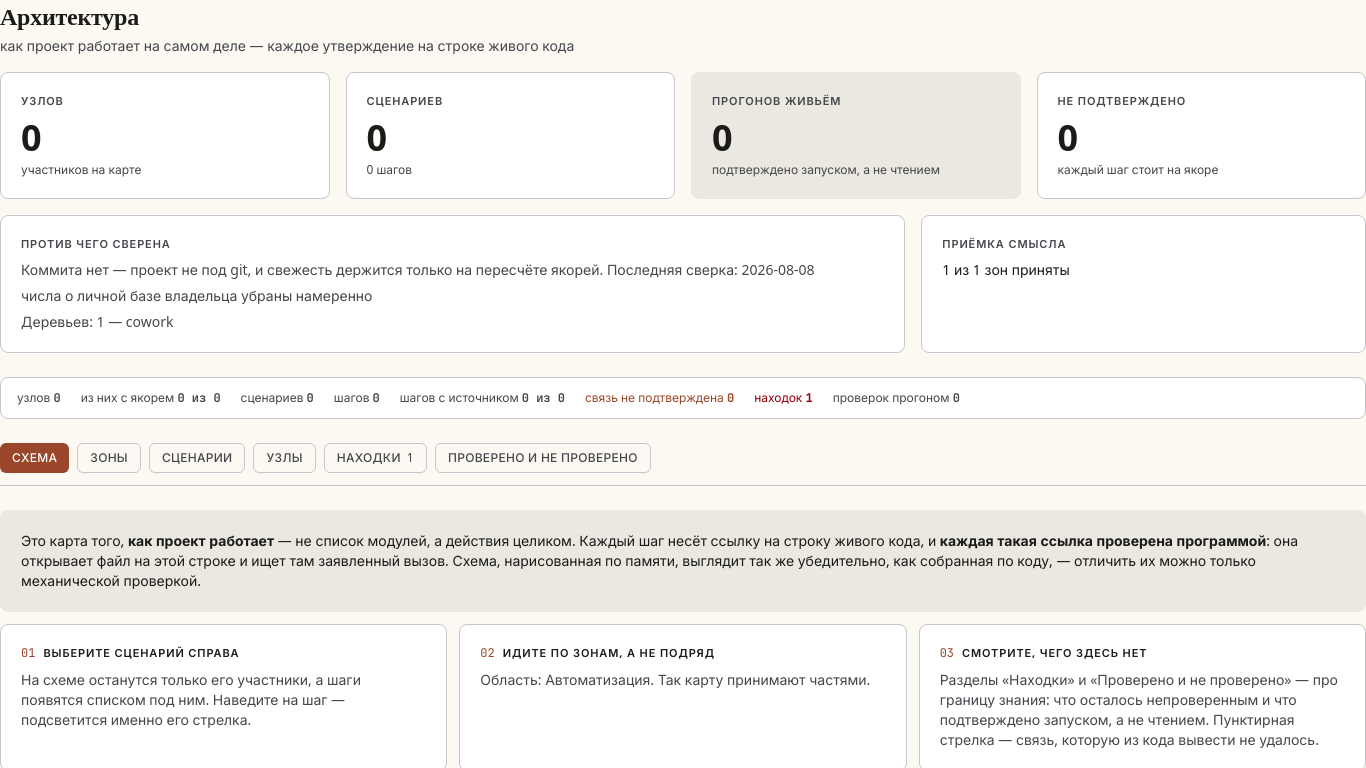
Test case: ArchitectureView › показывает находки вместе с тем, как их чинили
The width and height of the screenshot is (1366, 768).
Step 1. Click the button "Находки1" → (375, 458), box [324, 443, 427, 473]
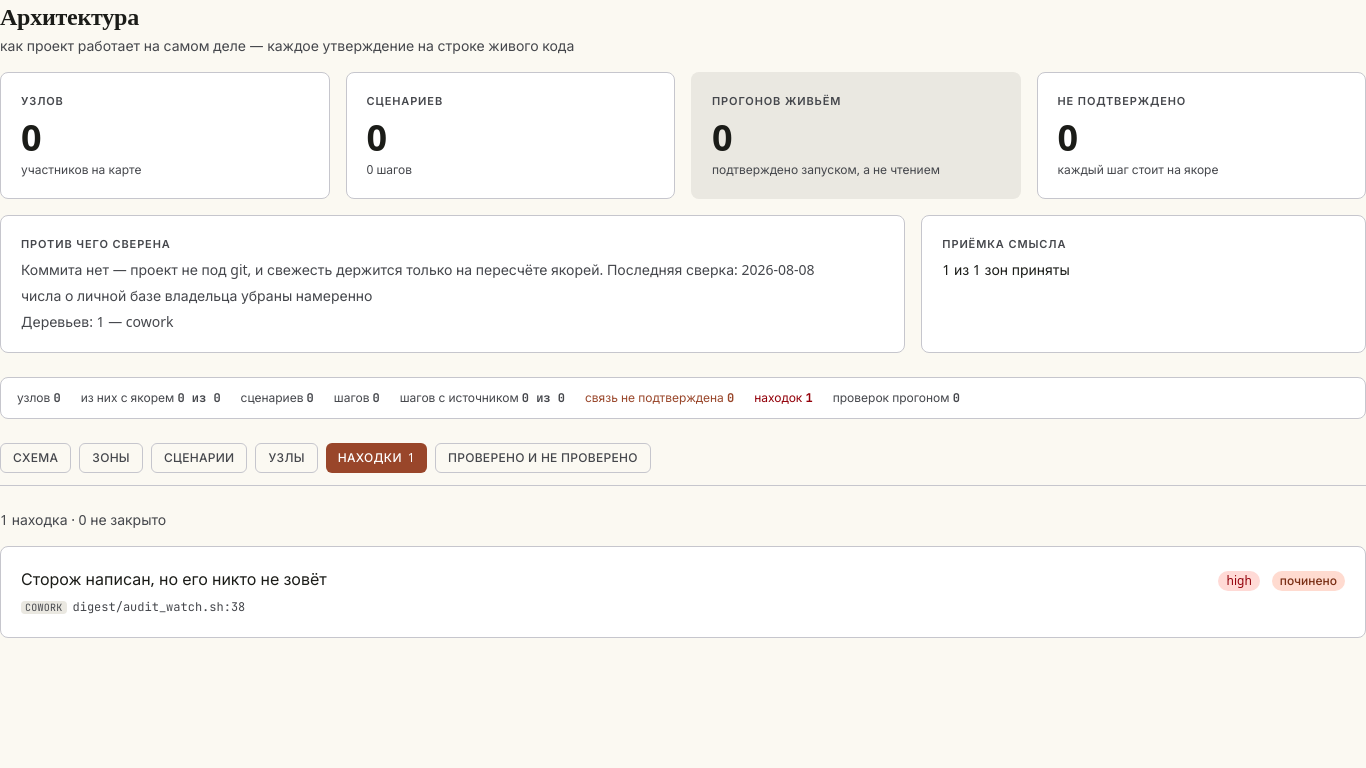
Now the text "Сторож написан, но его никто не зовёт" is shown, box [21, 568, 327, 590]
Now the text "починено" is shown, box [1272, 571, 1345, 591]
